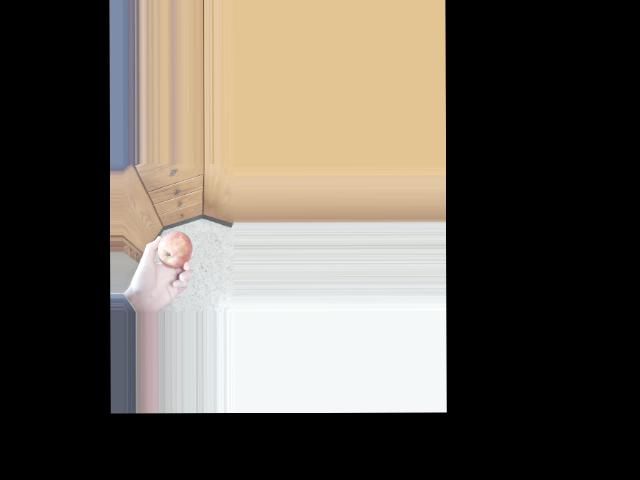apple: (151, 230, 192, 278)
